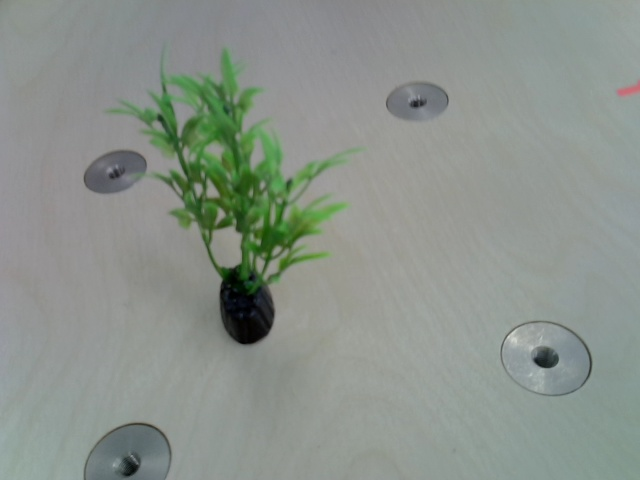튤립새싹: (114, 50, 348, 343)
